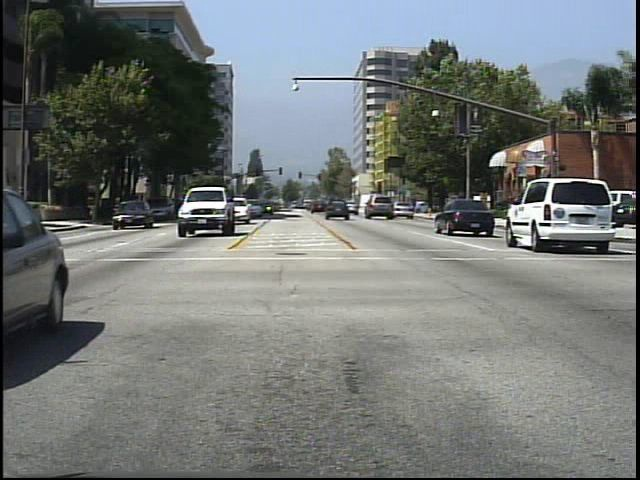person: (507, 192, 527, 231), (462, 191, 480, 226)
